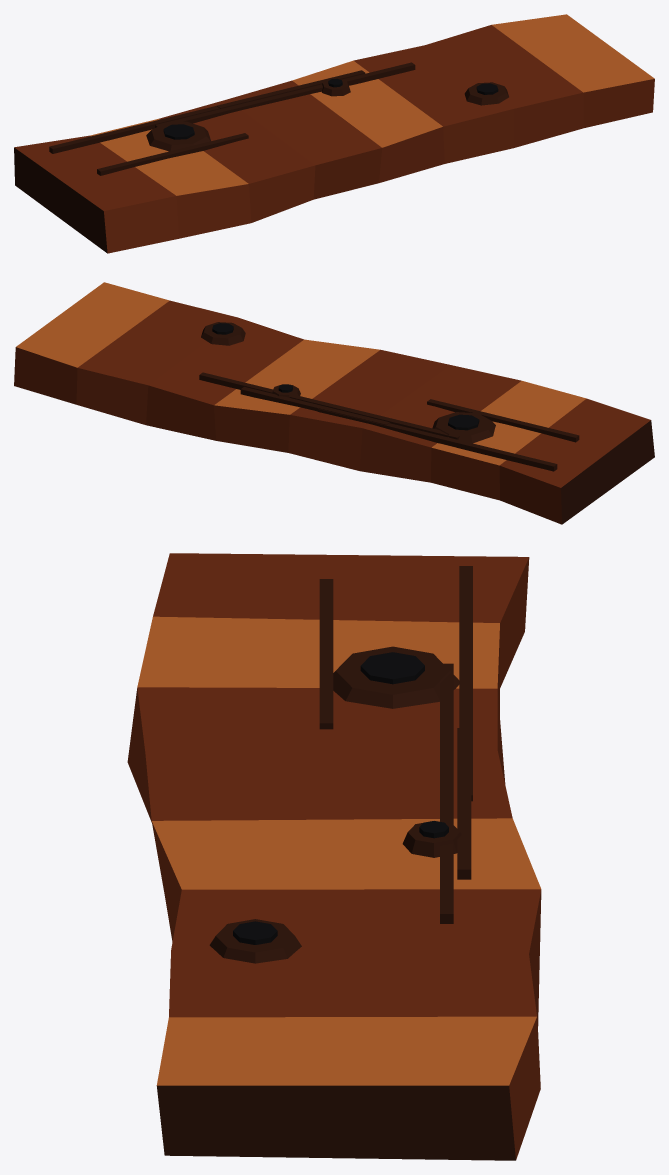
The model's file is planks.glb.
3 views of the same model, one above another, from view 1: azimuth 30°, elevation 25°; view 2: azimuth 150°, elevation 25°; view 3: azimuth 270°, elevation 25° (orthographic). The views are drawn at different scales.
Visible parts, largest first — view 1: planks; view 2: planks; view 3: planks.
Part boxes in pixels (left/top/right/bottom): planks: left=14, top=14, right=654, bottom=253; planks: left=14, top=282, right=654, bottom=524; planks: left=127, top=553, right=541, bottom=1160.
Size of the model in its own units: 0.46 by 0.0389 by 0.1505.
Materials: 1 (1 with a texture image).
